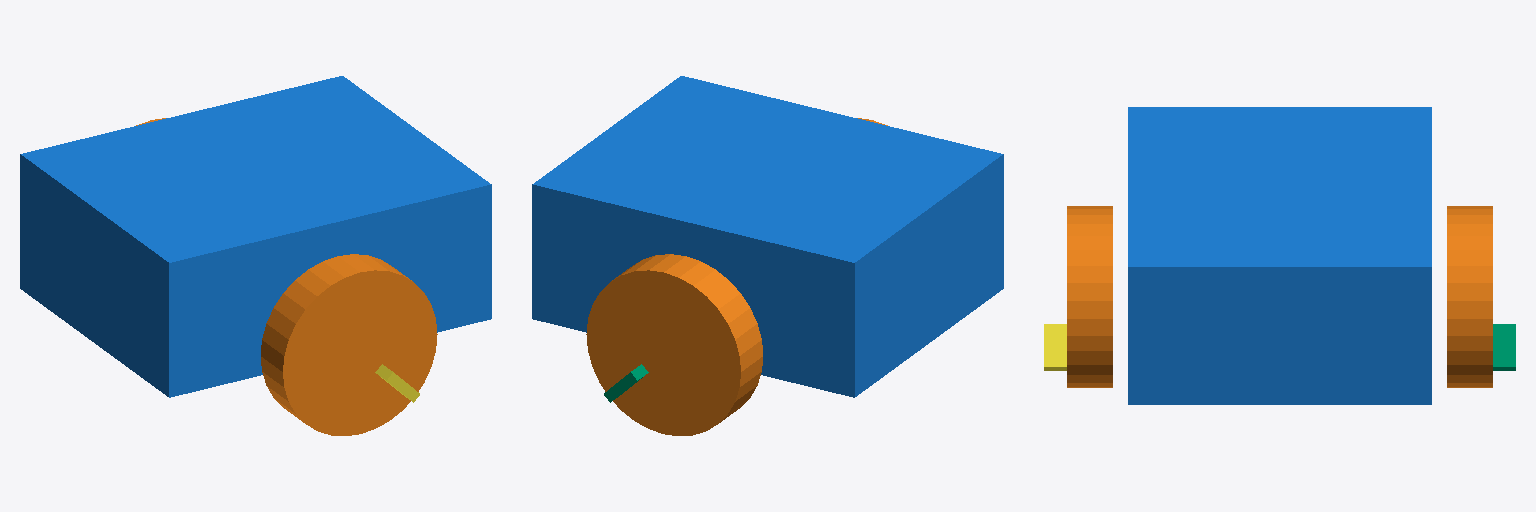
URDF robot description (joint_continuous_basic):
<?xml version="1.0"?>
<robot name="joint_continuous_basic">
    <material name="blue">
        <color rgba="0.15 0.55 0.90 1.0"/>
    </material>
    <material name="orange">
        <color rgba="0.95 0.55 0.15 1.0"/>
    </material>

    <!-- 地面参考坐标系 -->
    <link name="base_footprint"/>

    <!-- 车身 -->
    <link name="base_link">
        <visual>
            <geometry>
                <box size="0.5 0.4 0.2"/>
            </geometry>
            <material name="blue"/>
        </visual>
    </link>

    <!-- 左车轮 -->
    <link name="left_wheel_link">
        <visual>
            <origin rpy="1.5708 0 0"/>
            <geometry>
                <cylinder radius="0.12" length="0.06"/>
            </geometry>
            <material name="orange"/>
        </visual>

        <!-- 左车轮旋转标记 -->
        <visual>
            <origin xyz="0.05 0.045 -0.05" rpy="0 0.7854 0"/>
            <geometry>
                <box size="0.06 0.03 0.015"/>
            </geometry>
        </visual>
    </link>

    <!-- 右车轮 -->
    <link name="right_wheel_link">
        <visual>
            <origin rpy="1.5708 0 0"/>
            <geometry>
                <cylinder radius="0.12" length="0.06"/>
            </geometry>
            <material name="orange"/>
        </visual>

        <!-- 右车轮旋转标记 -->
        <visual>
            <origin xyz="0.05 -0.045 -0.05" rpy="0 0.7854 0"/>
            <geometry>
                <box size="0.06 0.03 0.015"/>
            </geometry>
        </visual>
    </link>

    <!-- 地面参考坐标系与车身固定连接 -->
    <joint name="base_joint" type="fixed">
        <parent link="base_footprint"/>
        <child link="base_link"/>
        <origin xyz="0 0 0.18"/>
    </joint>

    <!-- 左车轮：连续旋转关节 -->
    <joint name="left_wheel_joint" type="continuous">
        <parent link="base_link"/>
        <child link="left_wheel_link"/>
        <origin xyz="0 0.25 -0.06"/>
        <axis xyz="0 1 0"/>
        <limit effort="10.0" velocity="1.0"/>
    </joint>

    <!-- 右车轮：连续旋转关节 -->
    <joint name="right_wheel_joint" type="continuous">
        <parent link="base_link"/>
        <child link="right_wheel_link"/>
        <origin xyz="0 -0.25 -0.06"/>
        <axis xyz="0 1 0"/>
        <limit effort="10.0" velocity="1.0"/>
    </joint>
</robot>

--- What the picture shows (computed from the rendered views, not written in the file) ---
Views: 3 orthographic renders of the robot side by side, from view 1: azimuth 30°, elevation 25°; view 2: azimuth 150°, elevation 25°; view 3: azimuth 270°, elevation 25°.
Model joint_continuous_basic with 4 links and 3 joints (2 continuous, 1 fixed), rooted at base_footprint, posed every joint at zero.
Visible links, largest first — view 1: base_link, right_wheel_link; view 2: base_link, left_wheel_link; view 3: base_link, left_wheel_link, right_wheel_link.
Boxes of the visible links, x1,y1,x2,y2 form: base_link: (20,76,491,397); right_wheel_link: (261,254,437,435); base_link: (532,76,1003,397); left_wheel_link: (586,254,762,435); base_link: (1128,107,1431,404); left_wheel_link: (1447,206,1515,387); right_wheel_link: (1044,206,1112,387).
Size in the robot's own frame: 0.5 by 0.62 by 0.28 metres.
Geometry: primitives only (box / cylinder / sphere), no mesh files.
